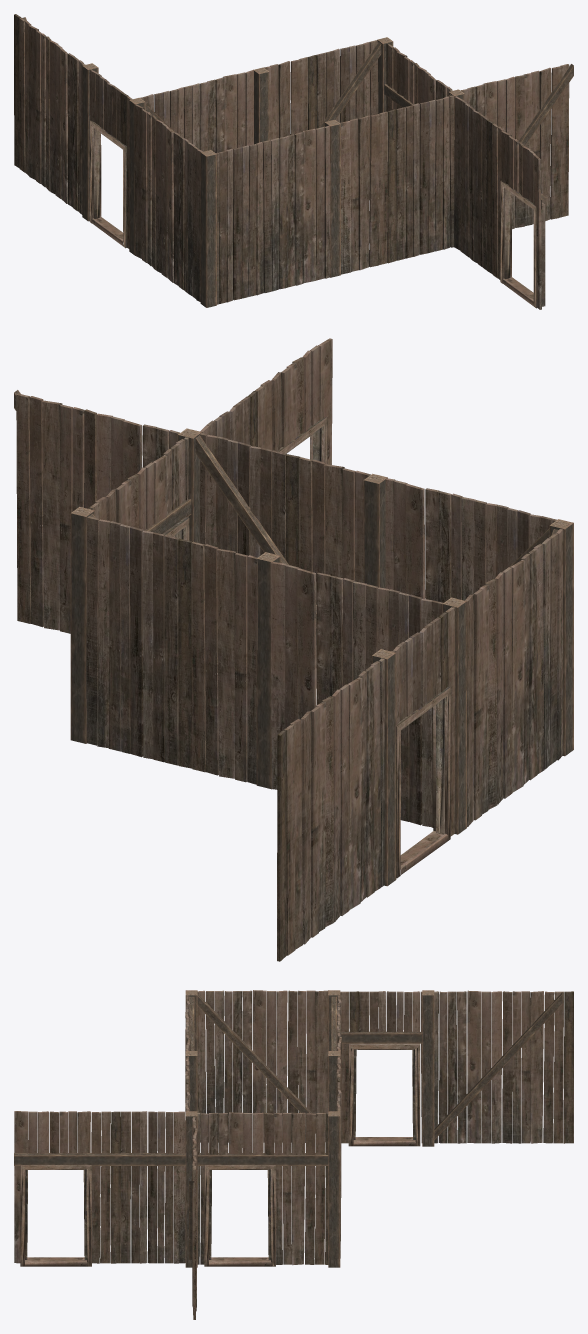
Rendered from wooden_building_e_int.glb.
3 views of the same model, one above another, from view 1: azimuth 30°, elevation 25°; view 2: azimuth 150°, elevation 25°; view 3: azimuth 270°, elevation 25° (orthographic). The views are drawn at different scales.
Visible parts, largest first — view 1: wooden_building_e_int_LOD0; view 2: wooden_building_e_int_LOD0; view 3: wooden_building_e_int_LOD0.
Boxes of the visible parts, bbox=[...] form: wooden_building_e_int_LOD0: bbox=[14, 14, 573, 309]; wooden_building_e_int_LOD0: bbox=[14, 338, 573, 961]; wooden_building_e_int_LOD0: bbox=[14, 990, 573, 1319].
Size of the model in its own units: 8.96 by 3.5 by 11.74.
2 materials, 2 textured.
